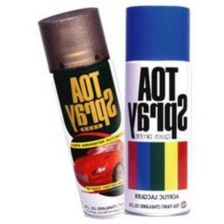aerosol_cans: (35, 2, 144, 222), (118, 2, 199, 221)
